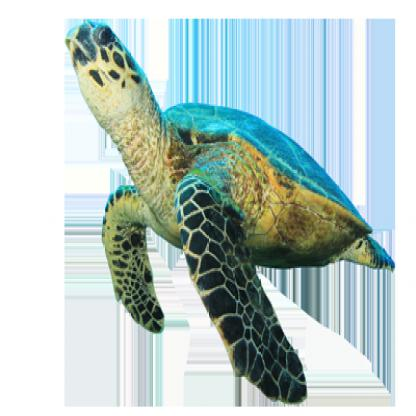turtle: (60, 13, 152, 149)
